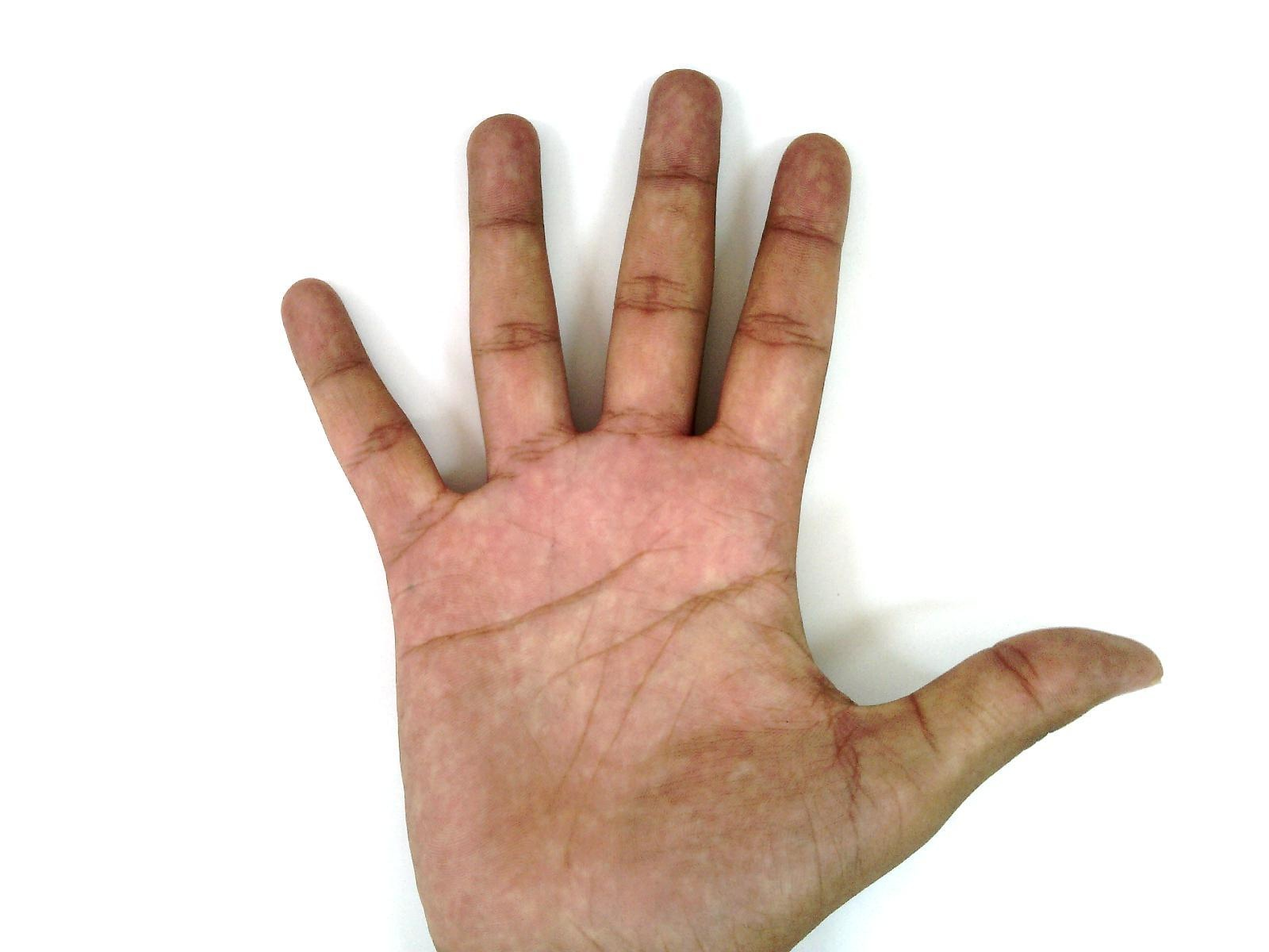open_palm: (277, 67, 1165, 951)
